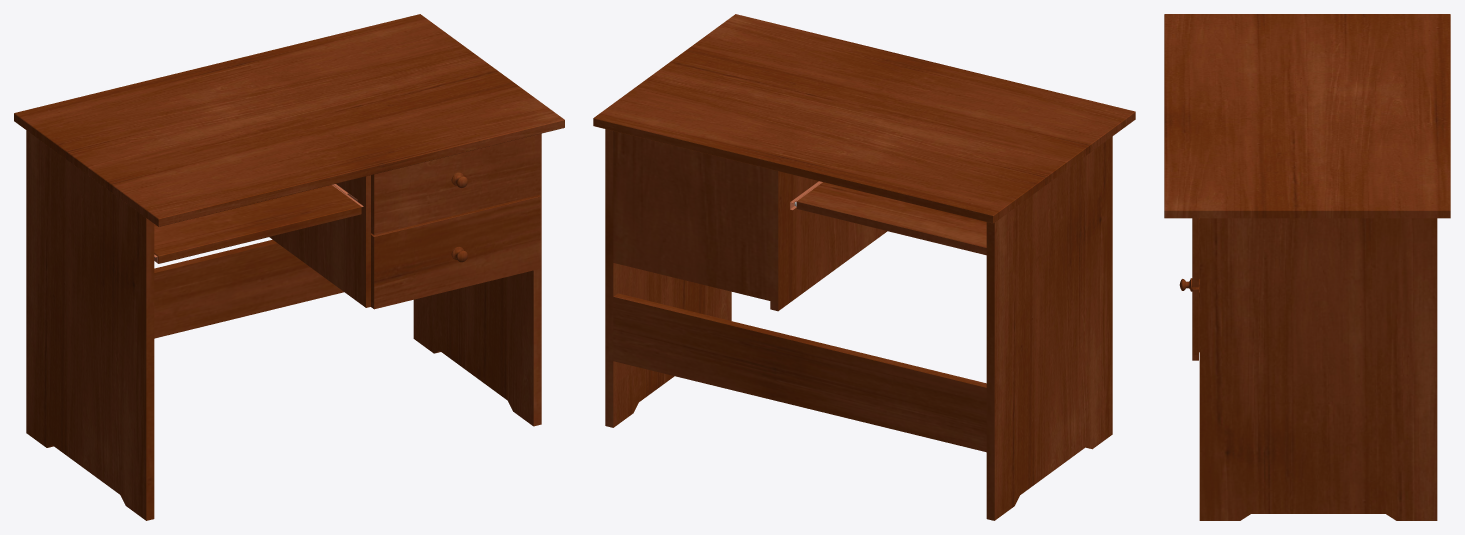
Rendered from sweethome3d-scopia-wooden-desk-83.glb.
The picture shows the model from 3 angles, left to right: view 1: azimuth 30°, elevation 25°; view 2: azimuth 150°, elevation 25°; view 3: azimuth 270°, elevation 25°; orthographic projection.
Parts seen in each view (by area): view 1: table_Cube, Cube.002, Cube.001, suf_Cube.005; view 2: table_Cube, suf_Cube.005; view 3: table_Cube, Cube.002, Cube.001.
Boxes of the visible parts, x1,y1,x2,y2 form: table_Cube: (14, 14, 564, 520); Cube.002: (371, 195, 540, 309); Cube.001: (371, 134, 540, 234); suf_Cube.005: (154, 185, 361, 263); table_Cube: (593, 14, 1135, 520); suf_Cube.005: (796, 182, 986, 255); table_Cube: (1164, 14, 1450, 520); Cube.002: (1192, 279, 1199, 360); Cube.001: (1192, 218, 1199, 287).
Bounding box in the file's own units: 100 × 74.64 × 61.84.
Materials: 3 (1 with a texture image).
